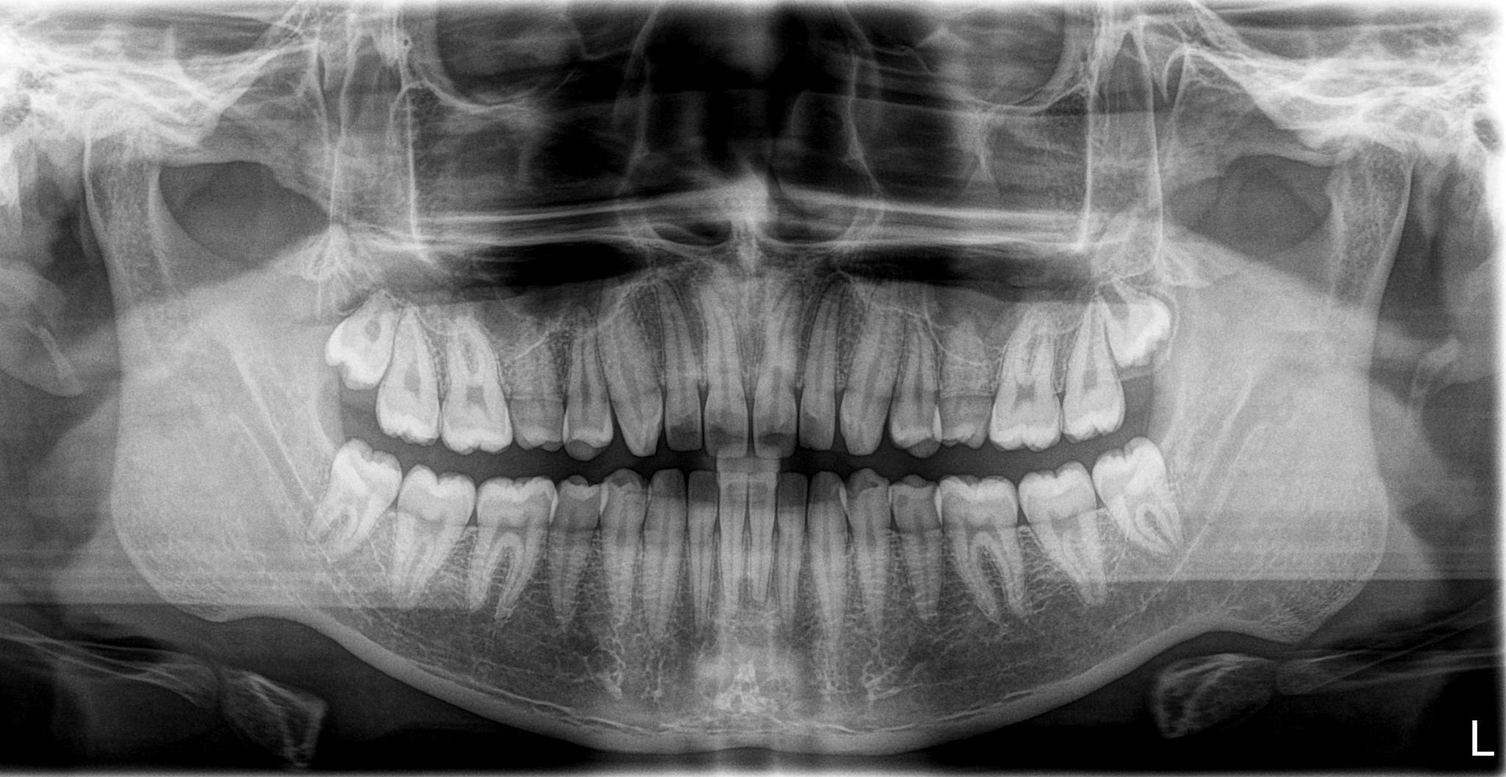Impacted Third Molar: (1106, 443, 1218, 554), (298, 448, 393, 558), (1094, 285, 1195, 376), (315, 294, 393, 385)
